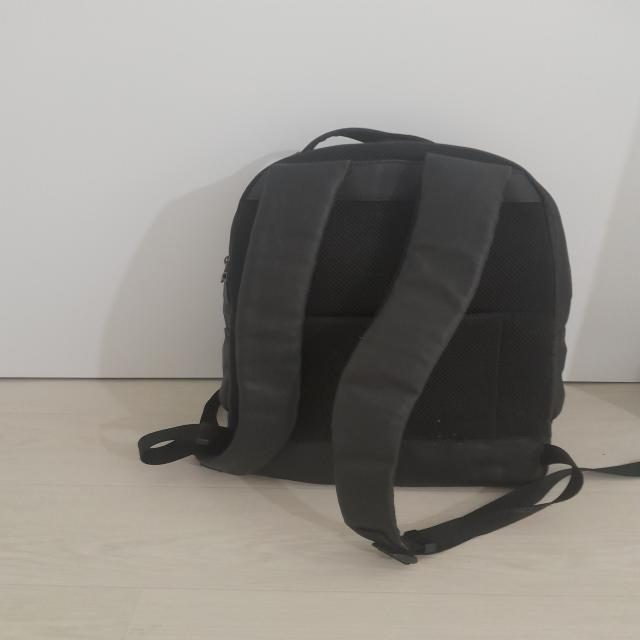backpack: (139, 128, 640, 565)
